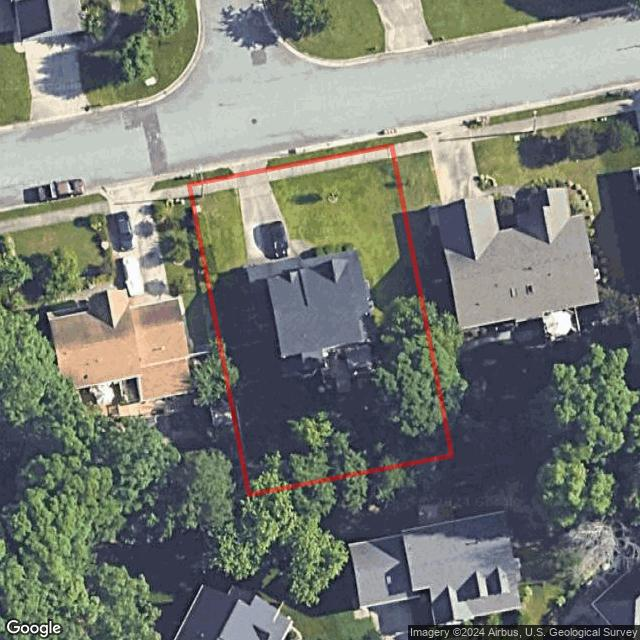Driveway: (236, 169, 315, 282)
Extra-Driveway: (228, 159, 271, 178)
Extra-Lawn: (265, 136, 392, 169), (186, 168, 235, 186)
House: (267, 247, 376, 371)
Lawn: (190, 145, 452, 496)
Other: (319, 340, 378, 393), (281, 354, 304, 381)
Sidewalk: (267, 147, 395, 183), (191, 176, 238, 199)
